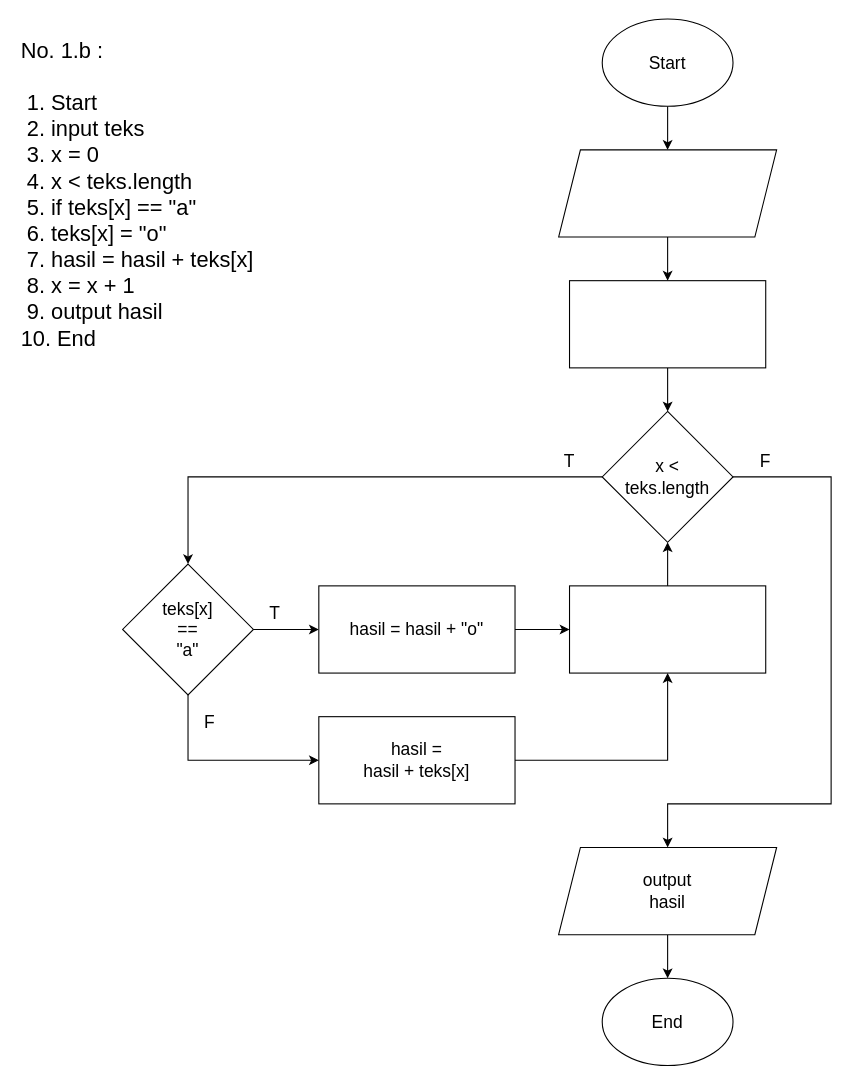
Image size: 859x1085. Some labels were removed from this diagram. Each missing label, with the box of its shape:
input teks: (558, 149, 777, 237)
x = 0: (568, 280, 766, 368)
x = x + 1: (568, 585, 766, 673)
